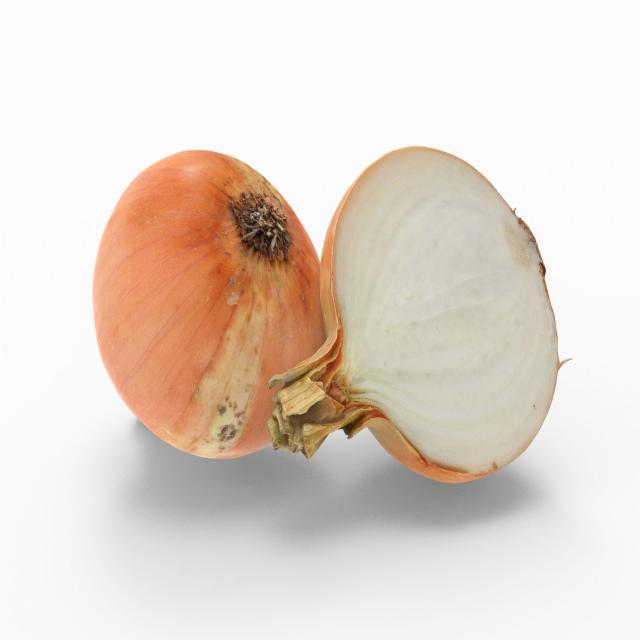onion: (267, 143, 567, 487), (91, 147, 326, 462)
